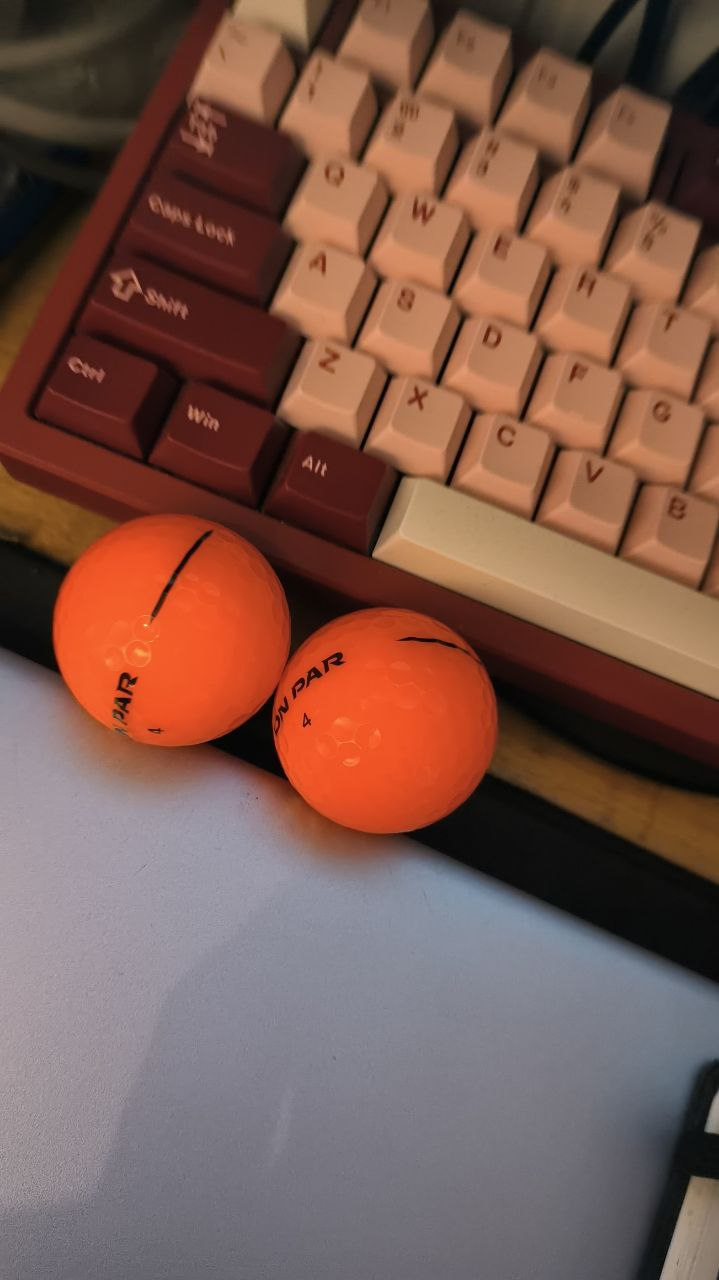orange_ball: (49, 512, 291, 750), (272, 605, 500, 833)
